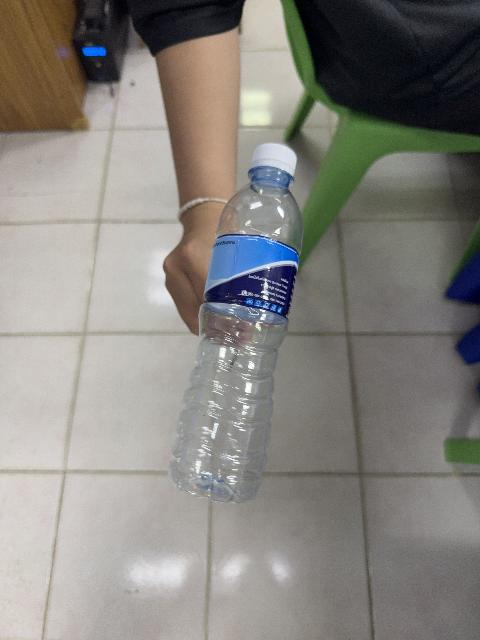bottle: (170, 144, 302, 502)
